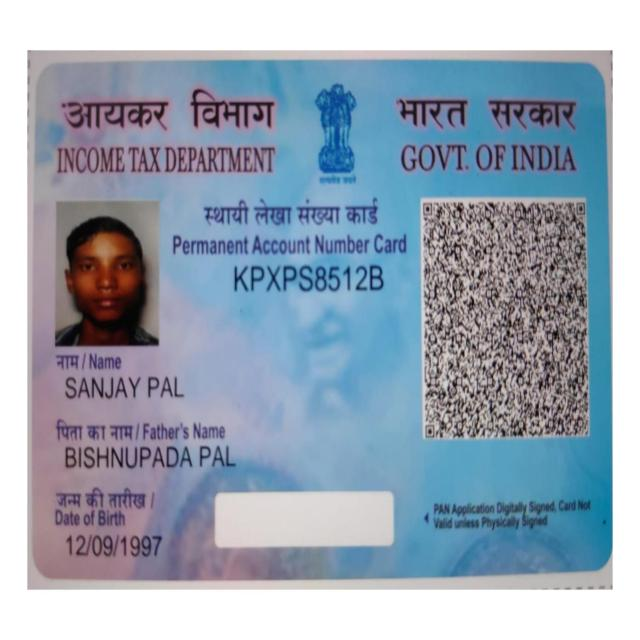pan_card: (36, 70, 612, 568)
